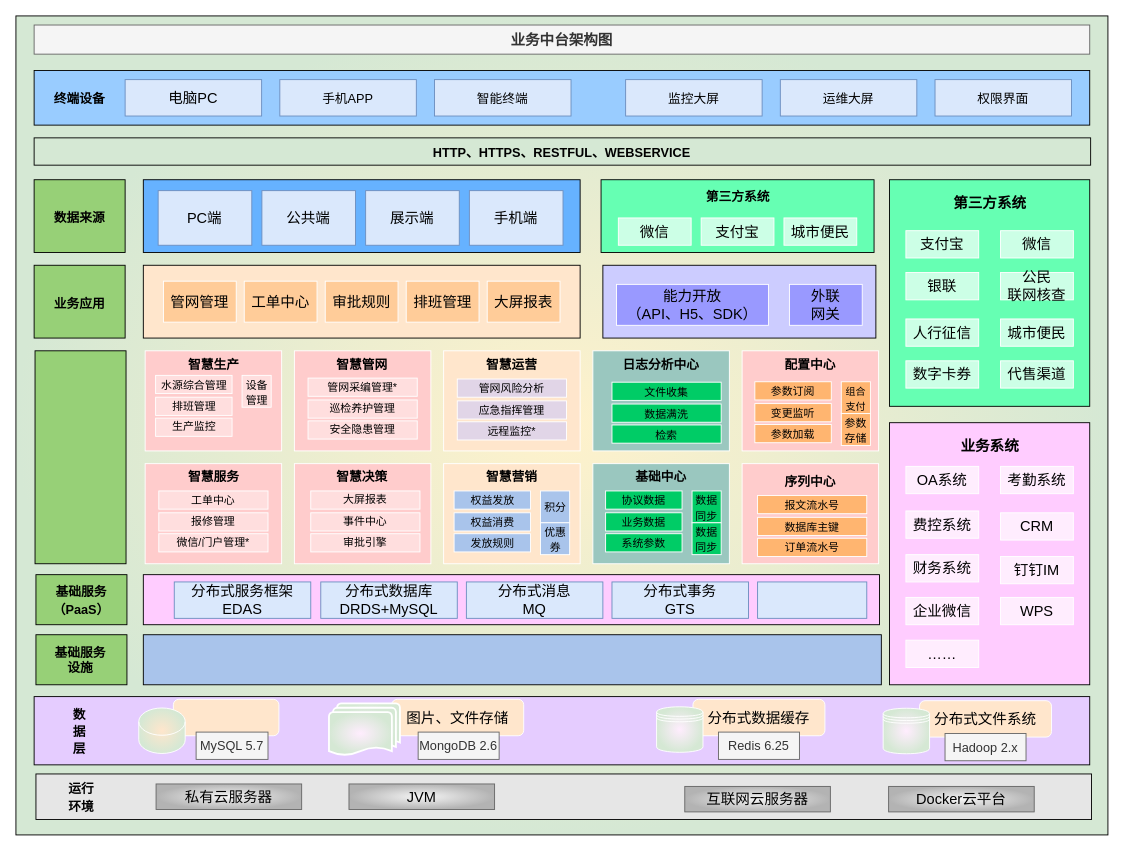
This 1124x851 diagram has some shape labels left out. The shapes that lost their labels are listed below. From the top down, each one's centre as x and y in pixels, then its label:
At (80,457): "互联网 业务中台".
At (812,599): "实时监控服务".
At (511,659): "IaaS（VMWare）".
At (225,717): "MySQL数据库 一主两从".
